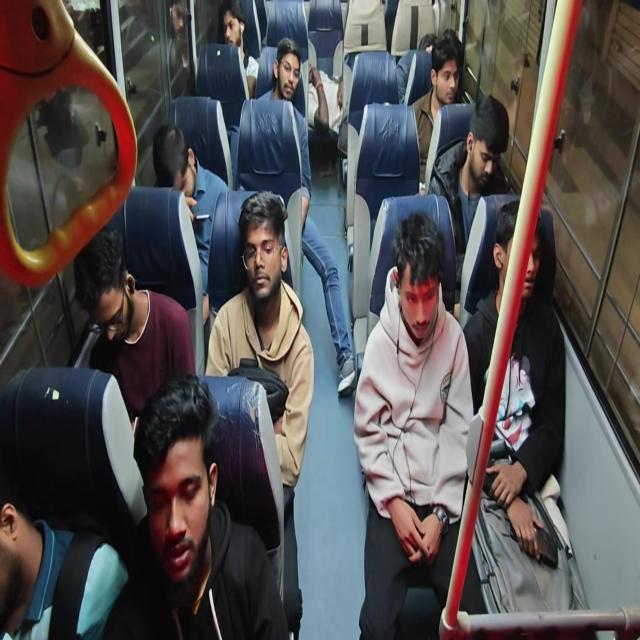person: (138, 362, 220, 584), (74, 222, 170, 379), (154, 99, 233, 272), (0, 413, 40, 640), (388, 220, 461, 330), (480, 226, 550, 327), (231, 205, 279, 331), (266, 30, 318, 130), (441, 53, 476, 152), (212, 0, 250, 67), (419, 16, 444, 88)
